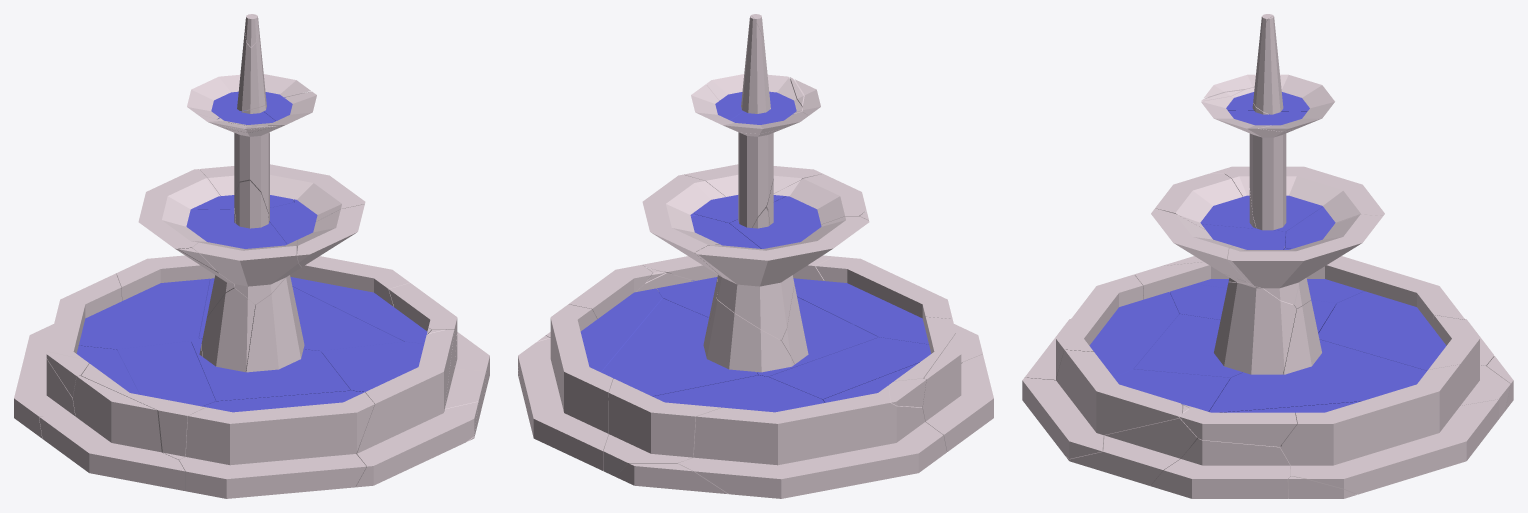
The model's file is Foutain_Broken.fbx.
3 views of the same model, side by side, from view 1: azimuth 30°, elevation 25°; view 2: azimuth 150°, elevation 25°; view 3: azimuth 270°, elevation 25° (orthographic).
Visible parts, largest first — view 1: Fountain_cell.025, Fountain_cell.027, Fountain_cell.019, Fountain_cell, Fountain_cell.010, Water_cell.011, Fountain_cell.006, Fountain_cell.015, Water_cell.010, Fountain_cell.021, Water_cell.002, Fountain_cell.001 (+19 smaller); view 2: Fountain_cell.010, Fountain_cell.003, Fountain_cell.002, Fountain_cell, Fountain_cell.021, Water_cell.006, Fountain_cell.019, Water_cell.002, Fountain_cell.025, Water_cell.013, Water_cell.011, Water_cell.004 (+18 smaller); view 3: Fountain_cell.002, Fountain_cell, Fountain_cell.027, Water_cell.006, Fountain_cell.022, Water_cell.011, Fountain_cell.001, Fountain_cell.003, Fountain_cell.020, Fountain_cell.010, Water_cell.013, Fountain_cell.021 (+19 smaller).
Boxes of the visible parts, box(x1,y1,x2,y2) form: Fountain_cell.025: box(179, 392, 374, 498); Fountain_cell.027: box(355, 329, 478, 487); Fountain_cell.019: box(39, 376, 185, 491); Fountain_cell: box(199, 91, 365, 221); Fountain_cell.010: box(14, 273, 121, 438); Water_cell.011: box(78, 278, 210, 349); Fountain_cell.006: box(81, 288, 255, 460); Fountain_cell.015: box(192, 180, 301, 304); Water_cell.010: box(191, 338, 350, 401); Fountain_cell.021: box(138, 169, 236, 317); Water_cell.002: box(117, 341, 215, 406); Fountain_cell.001: box(246, 275, 304, 372); Fountain_cell.010: box(678, 385, 946, 498); Fountain_cell.003: box(603, 299, 794, 476); Fountain_cell.002: box(518, 304, 613, 470); Fountain_cell: box(642, 74, 802, 292); Fountain_cell.021: box(694, 208, 869, 340); Water_cell.006: box(601, 298, 757, 396); Fountain_cell.019: box(922, 333, 993, 451); Water_cell.002: box(769, 337, 931, 399); Fountain_cell.025: box(815, 256, 982, 362); Water_cell.013: box(793, 278, 928, 344); Water_cell.011: box(653, 375, 824, 412); Water_cell.004: box(580, 288, 662, 372); Fountain_cell.002: box(1280, 364, 1498, 494); Fountain_cell: box(1201, 87, 1382, 304); Fountain_cell.027: box(1022, 349, 1182, 458); Water_cell.006: box(1209, 339, 1426, 412); Fountain_cell.022: box(1150, 438, 1291, 498); Water_cell.011: box(1318, 291, 1446, 370); Fountain_cell.001: box(1214, 282, 1296, 374); Fountain_cell.003: box(1283, 300, 1510, 418); Fountain_cell.020: box(1066, 405, 1197, 485); Fountain_cell.010: box(1306, 256, 1494, 365); Water_cell.013: box(1089, 292, 1179, 377); Fountain_cell.021: box(1224, 166, 1384, 308).
Size of the model in its own units: 1.9 by 1.72 by 2.
